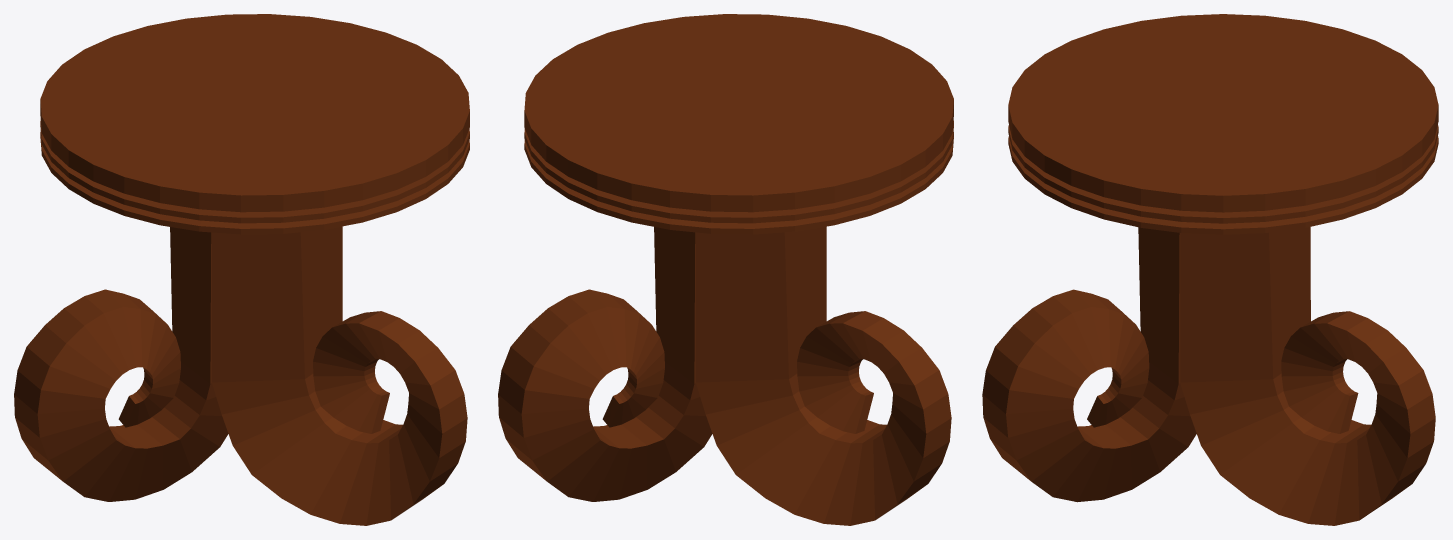
File: Table.fbx
3 views of the same model, side by side, from view 1: azimuth 30°, elevation 25°; view 2: azimuth 150°, elevation 25°; view 3: azimuth 270°, elevation 25° (orthographic).
Parts seen in each view (by area): view 1: Cylinder; view 2: Cylinder; view 3: Cylinder.
Part boxes in pixels (box(x1,y1,x2,y2)): Cylinder: box(14, 14, 469, 525); Cylinder: box(498, 14, 953, 525); Cylinder: box(982, 14, 1438, 525).
Bounding box in the file's own units: 266 × 232 × 262.
